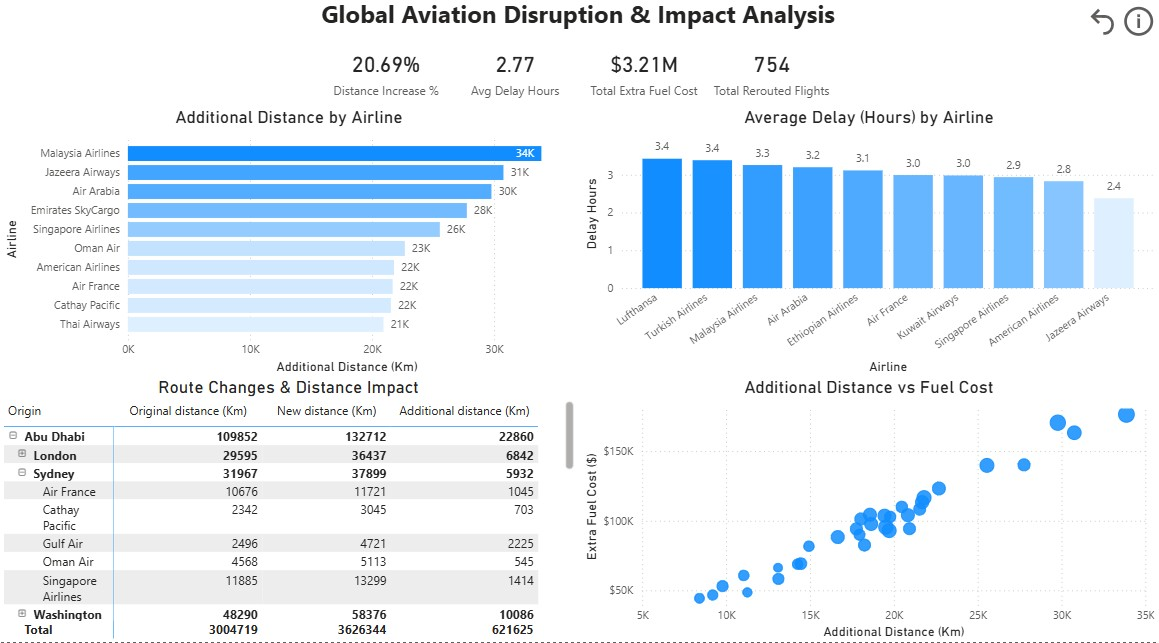

Layout of this report page (visuals, bound fields, positions):
{"tool":"powerbi","page":{"name":"Route & Efficiency Analysis","canvas":[1280,720],"ordinal":3},"visuals":[{"type":"actionButton","box":[1237.6,8.7,42.4,49.9],"z":0},{"type":"card","fields":{"Values":["Fact_Flight_Reroutes.Distance Increase %"]},"box":[355.3,49.9,142.1,77.3],"z":0,"group":"g1"},{"type":"textbox","box":[115.9,1.2,1047.3,57.4],"z":1000},{"type":"card","fields":{"Values":["Fact_Flight_Reroutes.Avg Delay Hours"]},"box":[497.4,49.9,142.1,77.3],"z":1000,"group":"g1"},{"type":"group","id":"g1","title":"Group 1","box":[355.3,49.9,568.5,77.3],"z":2000},{"type":"card","fields":{"Values":["Fact_Flight_Reroutes.Total Extra Fuel Cost"]},"box":[639.6,49.9,142.1,77.3],"z":2000,"group":"g1"},{"type":"card","fields":{"Values":["Sum(Fact_Airline_Losses_Estimate.rerouted_flights)"]},"box":[781.7,49.9,142.1,77.3],"z":3000,"group":"g1"},{"type":"barChart","title":"Additional Distance by Airline","fields":{"Category":["Fact_Flight_Reroutes.airline"],"Y":["Sum(Fact_Flight_Reroutes.additional_distance_km)"]},"box":[0,127.2,640.8,299.2],"z":3000},{"type":"pivotTable","title":"Route Changes & Distance Impact","fields":{"Rows":["Fact_Flight_Reroutes.origin","Fact_Flight_Reroutes.destination","Fact_Flight_Reroutes.airline"],"Values":["Sum(Fact_Flight_Reroutes.original_distance_km)","Sum(Fact_Flight_Reroutes.new_distance_km)","Sum(Fact_Flight_Reroutes.additional_distance_km)"]},"box":[0,426.4,639.6,294.2],"z":4000},{"type":"columnChart","title":"Average Delay (Hours) by Airline","fields":{"Category":["Fact_Flight_Reroutes.airline"],"Y":["Avg(Fact_Flight_Reroutes.delay_hours)"]},"box":[640.8,127.2,639.6,299.2],"z":5000},{"type":"scatterChart","title":"Additional Distance vs Fuel Cost","fields":{"X":["Sum(Fact_Flight_Reroutes.additional_distance_km)"],"Y":["Sum(Fact_Flight_Reroutes.extra_fuel_cost_usd)"],"Size":["Sum(Fact_Flight_Reroutes.delay_hours)"],"Category":["Fact_Flight_Reroutes.airline"]},"box":[640.8,426.4,639.6,294.2],"z":6000},{"type":"actionButton","box":[1199.4,12.5,38.6,41.1],"z":10000}]}

Visuals, with their boxes in screenshot pixels (x1, y1, x2, y2), scaled from the page's 1280x720 canvas onto the 1159x643 screenshot:
actionButton: 1121, 8, 1158, 52
card - Fact_Flight_Reroutes.Distance Increase %: 322, 45, 450, 114
textbox: 105, 1, 1053, 52
card - Fact_Flight_Reroutes.Avg Delay Hours: 450, 45, 579, 114
"Group 1" group: 322, 45, 836, 114
card - Fact_Flight_Reroutes.Total Extra Fuel Cost: 579, 45, 708, 114
card - Sum(Fact_Airline_Losses_Estimate.rerouted_flights): 708, 45, 836, 114
"Additional Distance by Airline" barChart: 0, 114, 580, 381
"Route Changes & Distance Impact" pivotTable: 0, 381, 579, 642
"Average Delay (Hours) by Airline" columnChart: 580, 114, 1158, 381
"Additional Distance vs Fuel Cost" scatterChart: 580, 381, 1158, 642
actionButton: 1086, 11, 1121, 48
